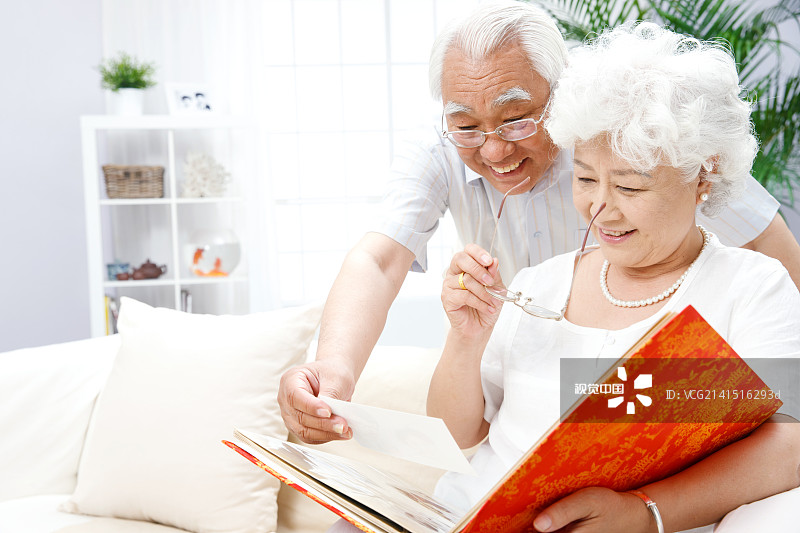no-phone: (267, 345, 368, 457), (437, 232, 514, 351)
